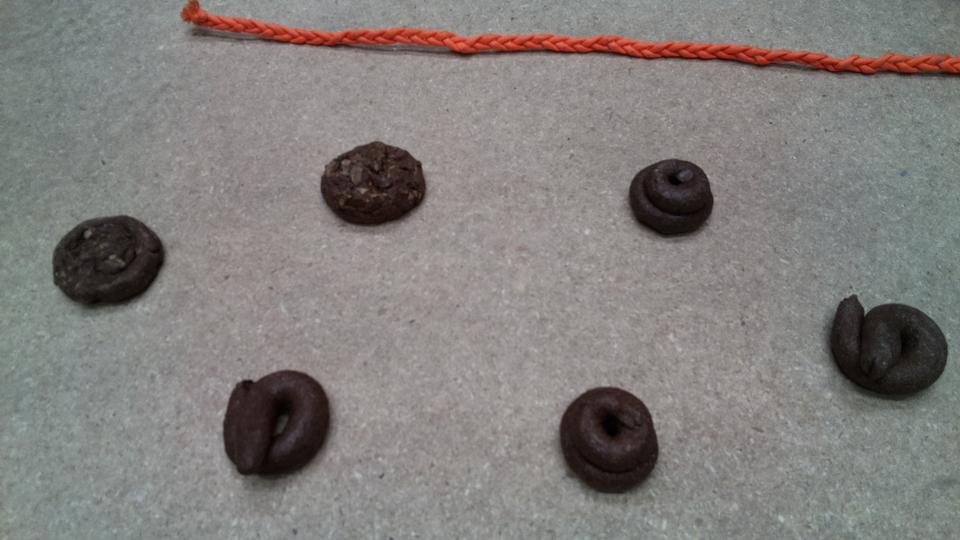poop: (220, 365, 335, 483), (827, 292, 950, 401), (558, 382, 663, 497), (49, 211, 168, 310), (318, 139, 428, 228), (626, 156, 716, 240)
rope: (180, 1, 960, 78)
